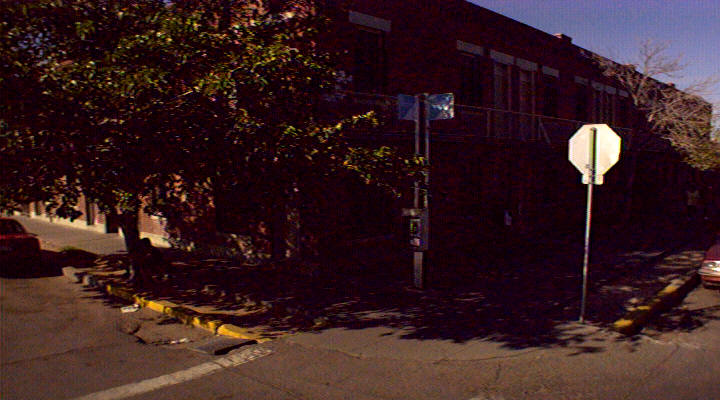Ramp: (235, 269, 638, 368)
